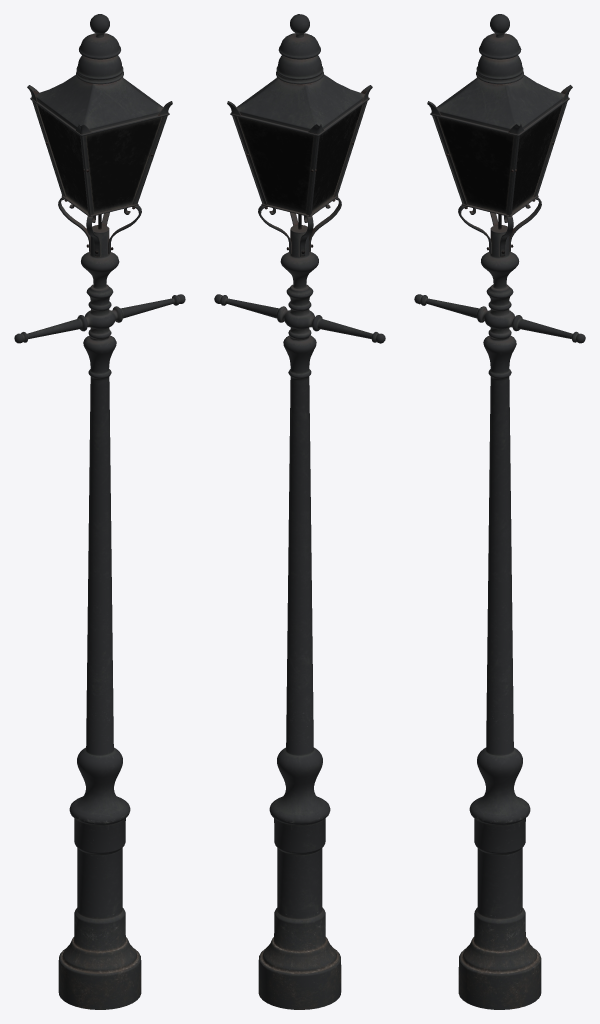
The model's file is street_lamp_01_lod1.glb.
3 renders of one model, left to right at view 1: azimuth 30°, elevation 25°; view 2: azimuth 150°, elevation 25°; view 3: azimuth 330°, elevation 25°, orthographic.
Parts seen in each view (by area): view 1: street_lamp_01; view 2: street_lamp_01; view 3: street_lamp_01.
Boxes of the visible parts, <box> form: street_lamp_01: <box>14,14,185,1009</box>; street_lamp_01: <box>214,14,385,1009</box>; street_lamp_01: <box>414,14,585,1009</box>.
Bounding box in the file's own units: 0.7031 × 3.87 × 0.3865.
Materials: 3 (3 with a texture image).
